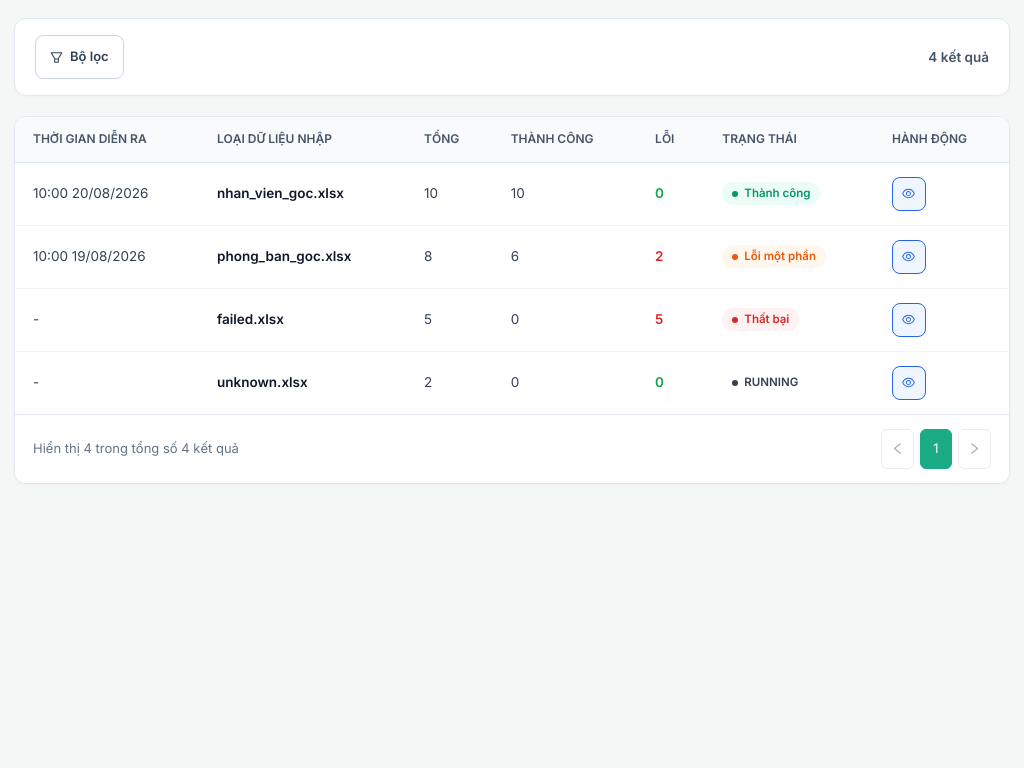
ImportLogsListPage › falls back to list row when detail response is empty or fails
Expected: the text "nhan_vien_goc.xlsx" is shown, [217,185,344,201]
Click the button named "Xem chi tiết đợt nhập dữ liệu 2" at [909, 257], box [892,240,926,274]
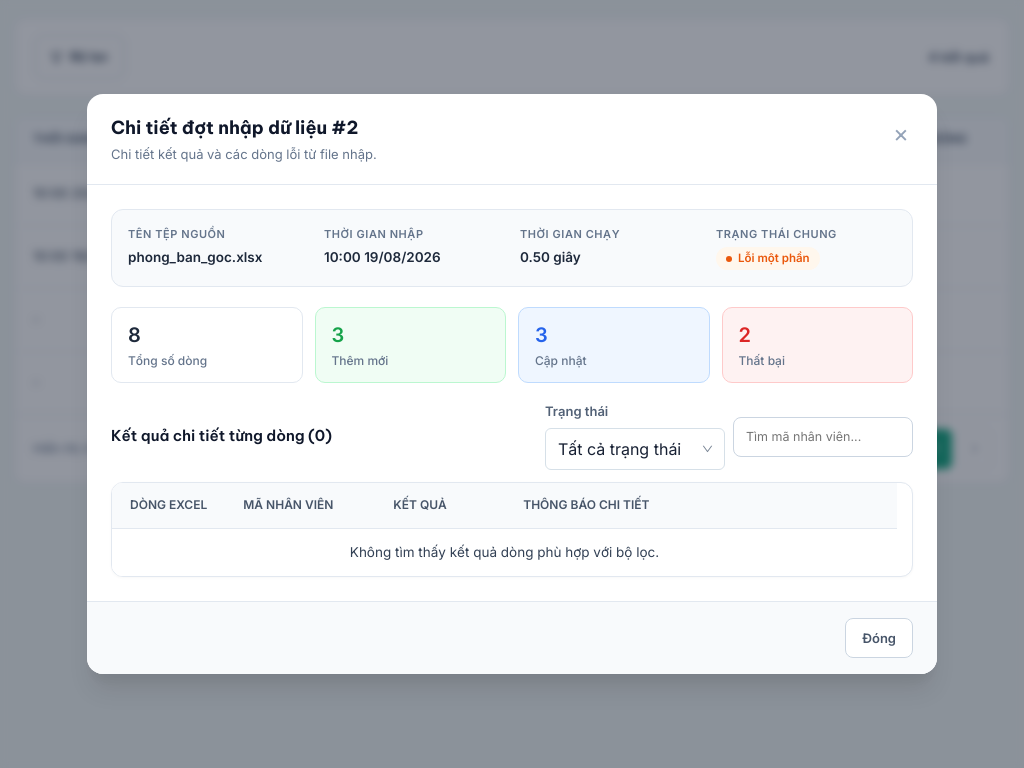
Expected: the text "phong_ban_goc.xlsx" is shown, [128,249,262,265]
Expected: the heading "Kết quả chi tiết từng dòng (0)" is shown, [111,425,332,448]
Click the button "Đóng" at [879, 638], box [845,618,913,658]
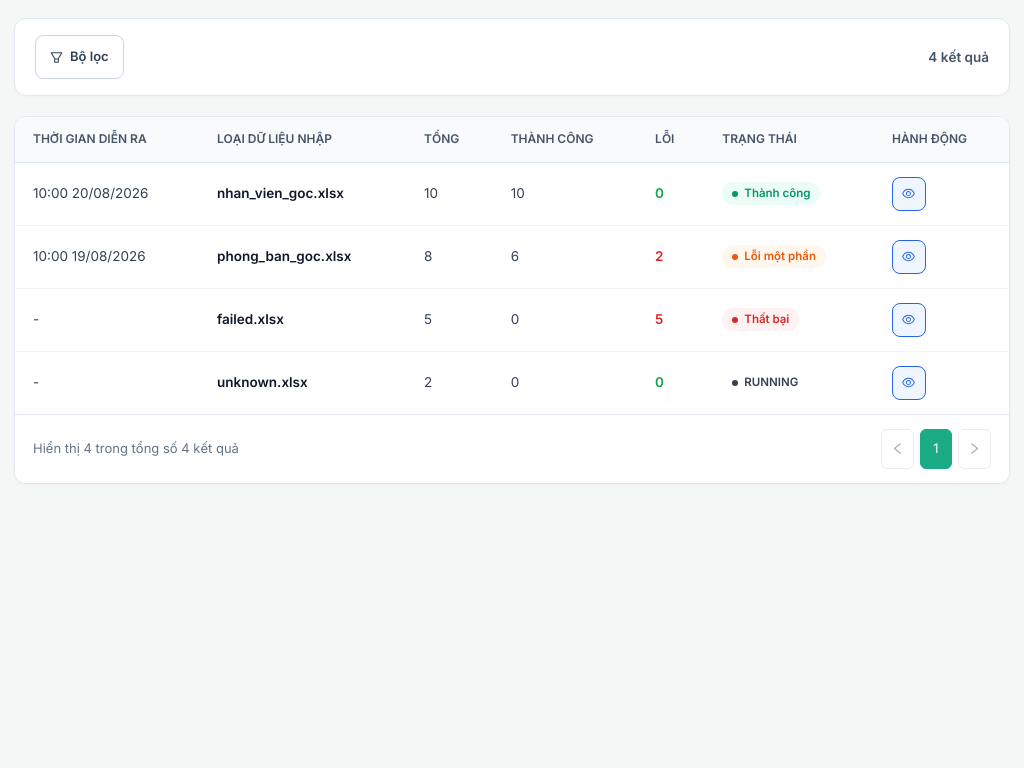
Click the button named "Xem chi tiết đợt nhập dữ liệu 3" at [909, 320], box [892,303,926,337]
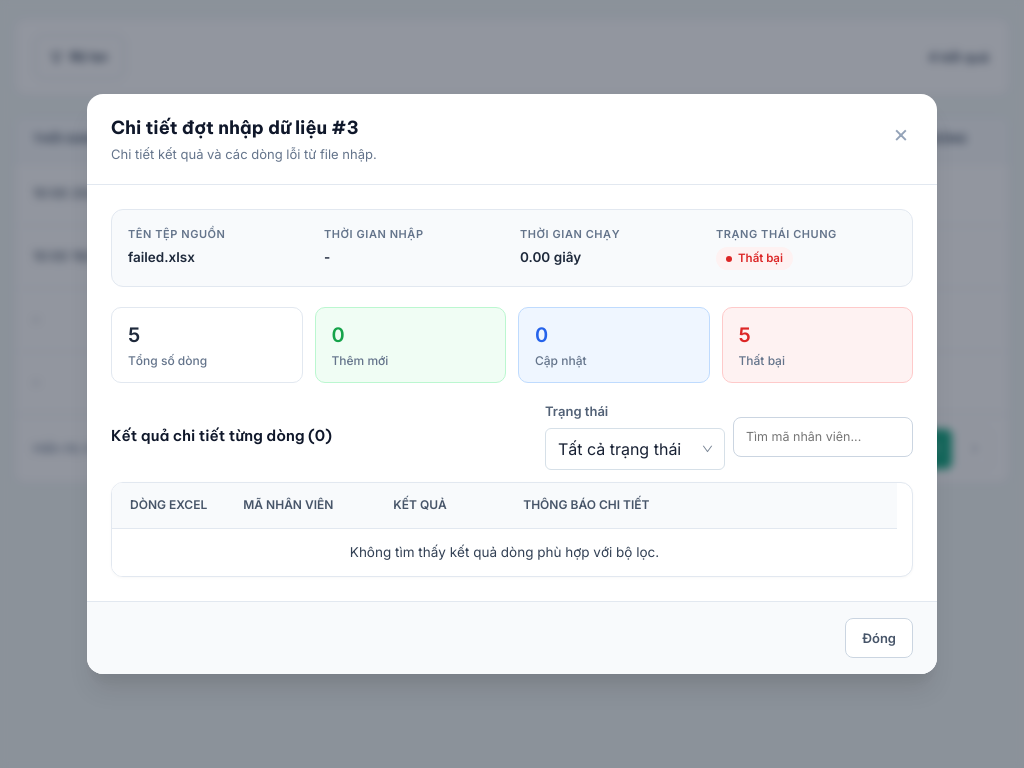
Expected: the text "failed.xlsx" is shown, [128,249,195,265]
